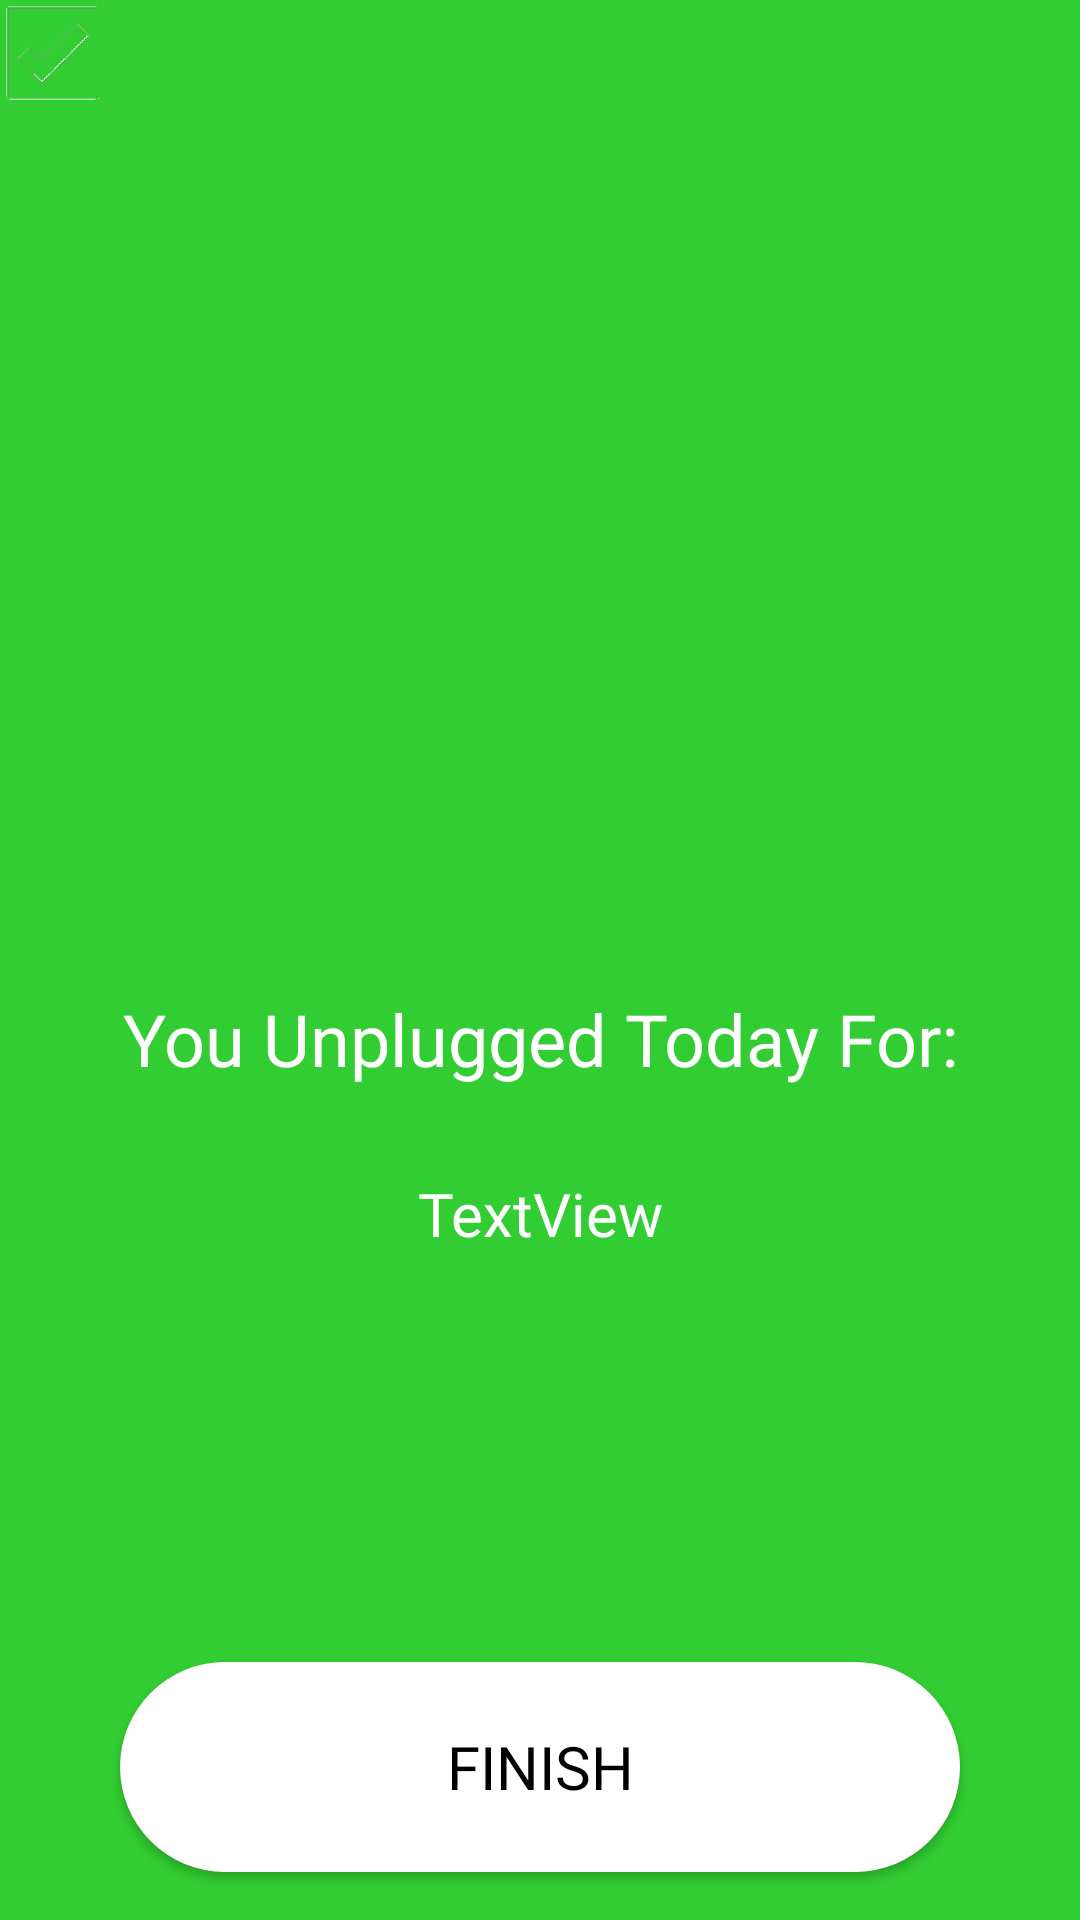

Point at icon controls on the screen. Image size 1080 x 1920, points as (x=x, y=y).
checkmark: (x=52, y=53)
